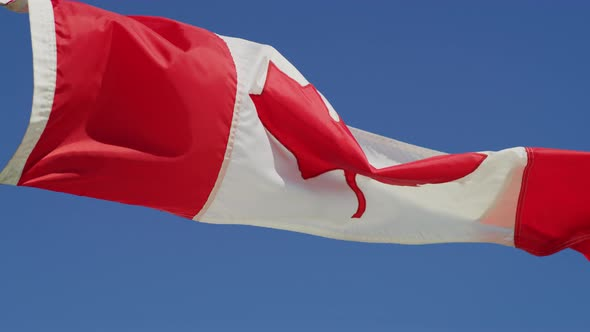Canada flag: (24, 1, 590, 259)
